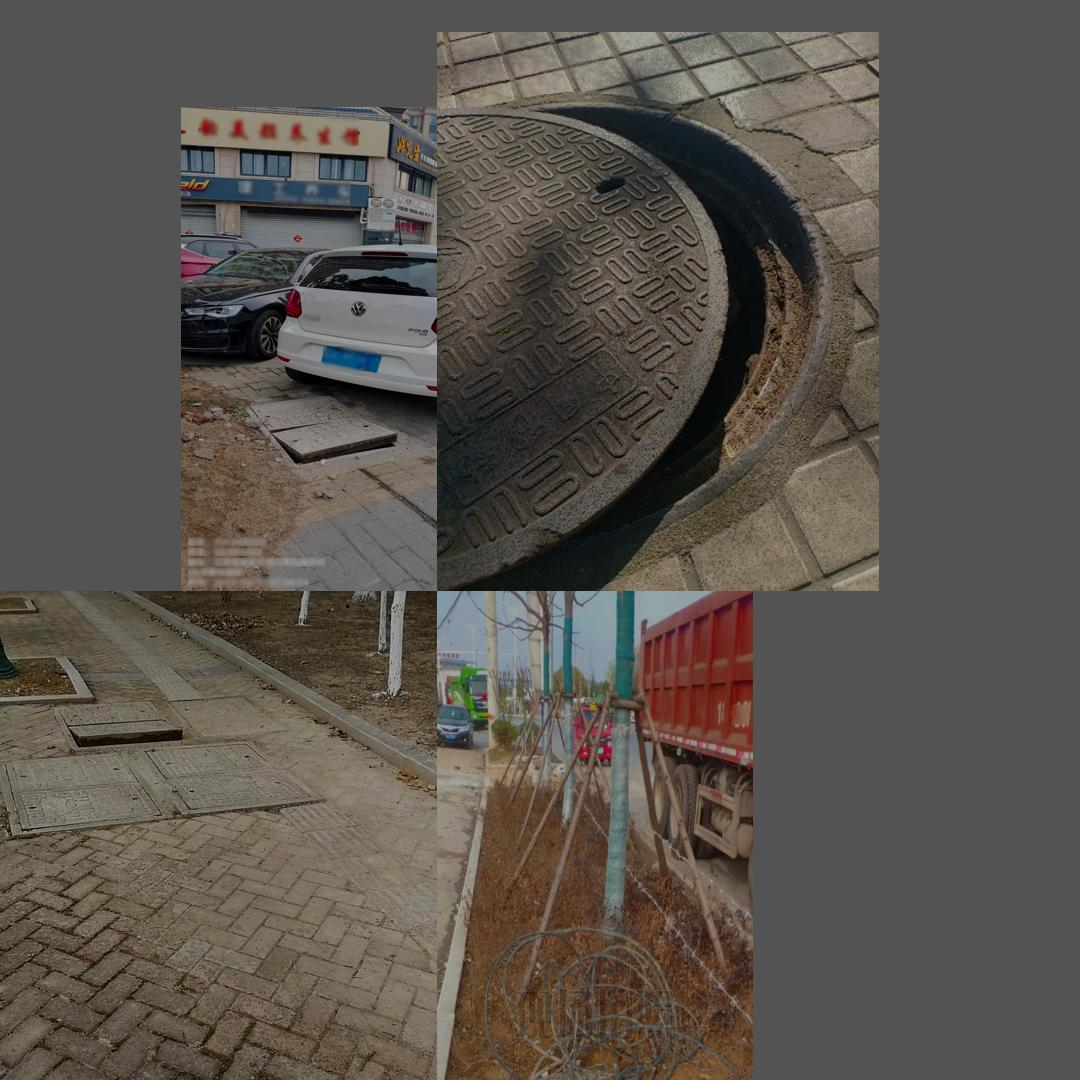good: (0, 739, 325, 838)
uncovered: (438, 97, 836, 591), (254, 402, 407, 477), (51, 699, 183, 747), (480, 1074, 682, 1080)
